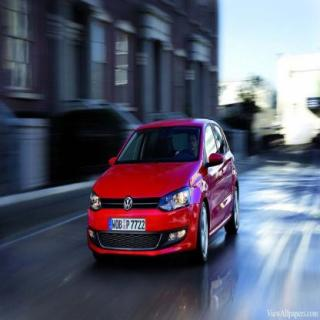Normal_vehicle: (88, 118, 238, 262)
